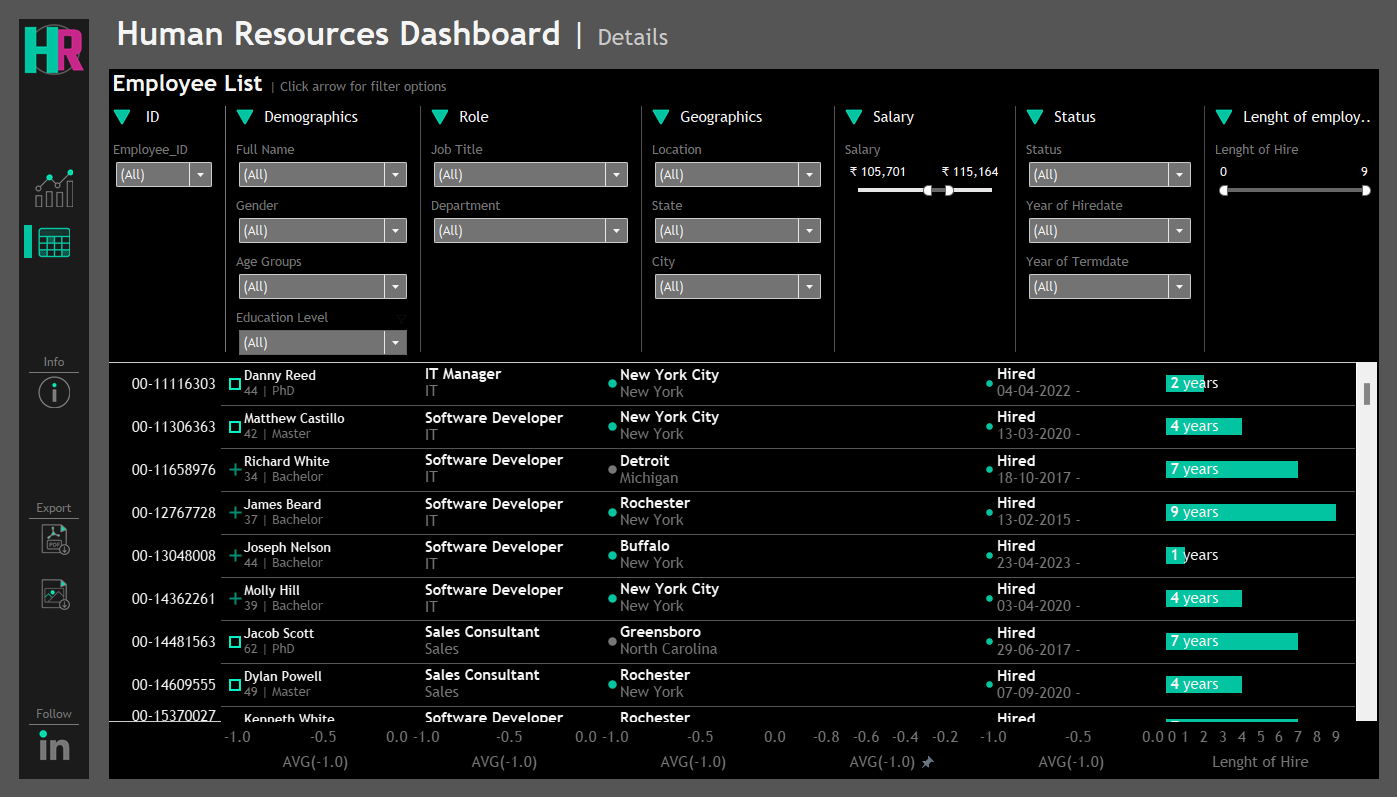

The dashboard page shown, as its layout file describes it:
{"tool":"tableau","page":{"name":"HR | Details ","canvas":[1400,800],"ordinal":1},"visuals":[{"type":"text","box":[93,0,1305,394]},{"type":"text","box":[110,0,683,70]},{"type":"blank","box":[793,0,587,70]},{"type":"image","param":"Image/Logo.png","box":[20,20,70,60]},{"type":"text","box":[110,70,1270,27]},{"type":"blank","box":[20,80,70,90]},{"type":"dashboard-object","box":[110,97,25,42]},{"type":"text","box":[135,97,85,42]},{"type":"blank","box":[220,97,13,266]},{"type":"dashboard-object","box":[233,97,25,42]},{"type":"text","box":[258,97,157,42]},{"type":"blank","box":[415,97,13,266]},{"type":"dashboard-object","box":[428,97,25,42]},{"type":"text","box":[453,97,183,42]},{"type":"blank","box":[636,97,13,266]},{"type":"dashboard-object","box":[649,97,25,42]},{"type":"text","box":[674,97,155,42]},{"type":"blank","box":[829,97,13,266]},{"type":"dashboard-object","box":[842,97,25,42]},{"type":"text","box":[867,97,143,42]},{"type":"blank","box":[1010,97,13,266]},{"type":"dashboard-object","box":[1023,97,25,42]},{"type":"text","box":[1048,97,151,42]},{"type":"blank","box":[1199,97,13,266]},{"type":"dashboard-object","box":[1212,97,25,42]},{"type":"text","box":[1237,97,143,42]},{"type":"filter","title":"Sheet 21","param":"[federated.0bgmnje15hprr71agptte040bgvo].[none:Employee_ID:nk]","box":[110,139,110,56]},{"type":"filter","title":"Sheet 21","param":"[federated.0bgmnje15hprr71agptte040bgvo].[none:Calculation_571957185787396110:nk","box":[233,139,182,56]},{"type":"filter","title":"Sheet 21","param":"[federated.0bgmnje15hprr71agptte040bgvo].[none:Job Title:nk]","box":[428,139,208,56]},{"type":"filter","title":"Sheet 21","param":"[federated.0bgmnje15hprr71agptte040bgvo].[none:Calculation_314689055595626501:nk","box":[649,139,180,56]},{"type":"filter","title":"Sheet 21","param":"[federated.0bgmnje15hprr71agptte040bgvo].[sum:Salary:qk]","box":[842,139,168,68]},{"type":"filter","title":"Sheet 21","param":"[federated.0bgmnje15hprr71agptte040bgvo].[none:Calculation_571957185363922944:nk","box":[1023,139,176,56]},{"type":"filter","title":"Sheet 21","param":"[federated.0bgmnje15hprr71agptte040bgvo].[sum:Calculation_571957185807687695:qk]","box":[1212,139,168,68]},{"type":"dashboard-object","box":[20,170,70,38]},{"type":"filter","title":"Sheet 21","param":"[federated.0bgmnje15hprr71agptte040bgvo].[none:Gender:nk]","box":[233,195,182,56]},{"type":"filter","title":"Sheet 21","param":"[federated.0bgmnje15hprr71agptte040bgvo].[none:Department:nk]","box":[428,195,208,56]},{"type":"filter","title":"Sheet 21","param":"[federated.0bgmnje15hprr71agptte040bgvo].[none:State:nk]","box":[649,195,180,56]},{"type":"filter","title":"Sheet 21","param":"[federated.0bgmnje15hprr71agptte040bgvo].[yr:Hiredate:ok]","box":[1023,195,176,56]},{"type":"blank","box":[20,208,70,15]},{"type":"dashboard-object","box":[20,223,70,40]},{"type":"blank","box":[25,226,8,33]},{"type":"filter","title":"Sheet 21","param":"[federated.0bgmnje15hprr71agptte040bgvo].[none:Calculation_314689055659184138:nk","box":[233,251,182,56]},{"type":"filter","title":"Sheet 21","param":"[federated.0bgmnje15hprr71agptte040bgvo].[none:City:nk]","box":[649,251,180,56]},{"type":"filter","title":"Sheet 21","param":"[federated.0bgmnje15hprr71agptte040bgvo].[yr:Termdate:ok]","box":[1023,251,176,56]},{"type":"blank","box":[20,263,70,90]},{"type":"filter","title":"Sheet 21","param":"[federated.0bgmnje15hprr71agptte040bgvo].[none:Education Level:nk]","box":[233,307,182,56]},{"type":"text","box":[20,353,70,20]},{"type":"worksheet","title":"Sheet 21","mark":"Shape","rows":["Employee_ID"],"cols":["Calculation_571957185786228749","Calculation_571957185786228749","Calculation_571957185786228749","Calculation_571957185786228749","Calculation_571957185786228749","Calculation_571957185807687695"],"box":[110,363,1270,437]},{"type":"blank","box":[20,373,70,1]},{"type":"dashboard-object","box":[20,374,70,35]},{"type":"blank","box":[20,409,70,90]},{"type":"text","box":[20,499,70,20]},{"type":"blank","box":[20,519,70,1]},{"type":"dashboard-object","box":[20,520,70,40]},{"type":"blank","box":[20,560,70,15]},{"type":"dashboard-object","box":[20,575,70,40]},{"type":"blank","box":[20,615,70,90]},{"type":"text","box":[20,705,70,20]},{"type":"blank","box":[20,725,70,1]},{"type":"image","param":"Image/contact-linkedin.png","box":[20,726,70,40]}]}

Visuals, with their boxes on the page's 1400x800 design canvas (x1, y1, x2, y2). These are canvas units, not pixel positions in the 1397x797 screenshot, which may show the page scaled, cropped or inside an application window:
text: rect(93, 0, 1398, 394)
text: rect(110, 0, 793, 70)
blank: rect(793, 0, 1380, 70)
image: rect(20, 20, 90, 80)
text: rect(110, 70, 1380, 97)
blank: rect(20, 80, 90, 170)
dashboard-object: rect(110, 97, 135, 139)
text: rect(135, 97, 220, 139)
blank: rect(220, 97, 233, 363)
dashboard-object: rect(233, 97, 258, 139)
text: rect(258, 97, 415, 139)
blank: rect(415, 97, 428, 363)
dashboard-object: rect(428, 97, 453, 139)
text: rect(453, 97, 636, 139)
blank: rect(636, 97, 649, 363)
dashboard-object: rect(649, 97, 674, 139)
text: rect(674, 97, 829, 139)
blank: rect(829, 97, 842, 363)
dashboard-object: rect(842, 97, 867, 139)
text: rect(867, 97, 1010, 139)
blank: rect(1010, 97, 1023, 363)
dashboard-object: rect(1023, 97, 1048, 139)
text: rect(1048, 97, 1199, 139)
blank: rect(1199, 97, 1212, 363)
dashboard-object: rect(1212, 97, 1237, 139)
text: rect(1237, 97, 1380, 139)
"Sheet 21" filter: rect(110, 139, 220, 195)
"Sheet 21" filter: rect(233, 139, 415, 195)
"Sheet 21" filter: rect(428, 139, 636, 195)
"Sheet 21" filter: rect(649, 139, 829, 195)
"Sheet 21" filter: rect(842, 139, 1010, 207)
"Sheet 21" filter: rect(1023, 139, 1199, 195)
"Sheet 21" filter: rect(1212, 139, 1380, 207)
dashboard-object: rect(20, 170, 90, 208)
"Sheet 21" filter: rect(233, 195, 415, 251)
"Sheet 21" filter: rect(428, 195, 636, 251)
"Sheet 21" filter: rect(649, 195, 829, 251)
"Sheet 21" filter: rect(1023, 195, 1199, 251)
blank: rect(20, 208, 90, 223)
dashboard-object: rect(20, 223, 90, 263)
blank: rect(25, 226, 33, 259)
"Sheet 21" filter: rect(233, 251, 415, 307)
"Sheet 21" filter: rect(649, 251, 829, 307)
"Sheet 21" filter: rect(1023, 251, 1199, 307)
blank: rect(20, 263, 90, 353)
"Sheet 21" filter: rect(233, 307, 415, 363)
text: rect(20, 353, 90, 373)
"Sheet 21" worksheet (Shape marks): rect(110, 363, 1380, 800)
blank: rect(20, 373, 90, 374)
dashboard-object: rect(20, 374, 90, 409)
blank: rect(20, 409, 90, 499)
text: rect(20, 499, 90, 519)
blank: rect(20, 519, 90, 520)
dashboard-object: rect(20, 520, 90, 560)
blank: rect(20, 560, 90, 575)
dashboard-object: rect(20, 575, 90, 615)
blank: rect(20, 615, 90, 705)
text: rect(20, 705, 90, 725)
blank: rect(20, 725, 90, 726)
image: rect(20, 726, 90, 766)
